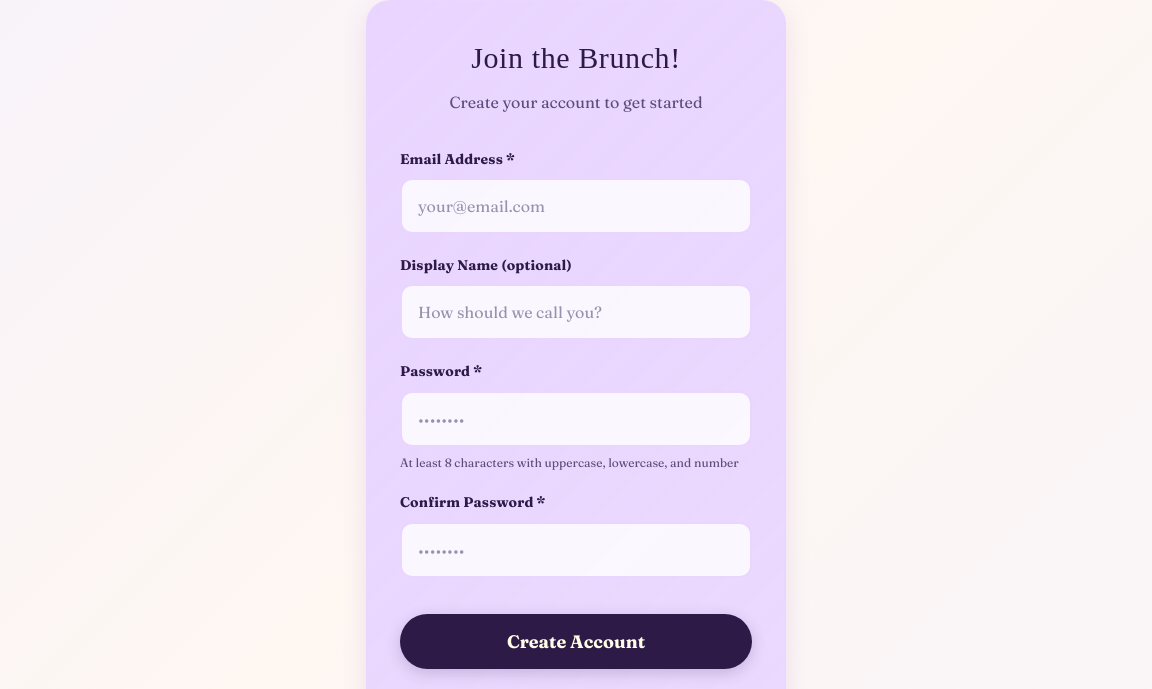
it: SignUpForm › Form Validation - Required Fields › should show error for invalid email format
In the field labelled "Email Address *": (576, 206) x1=400 y1=178 x2=752 y2=234, type "notanemail"
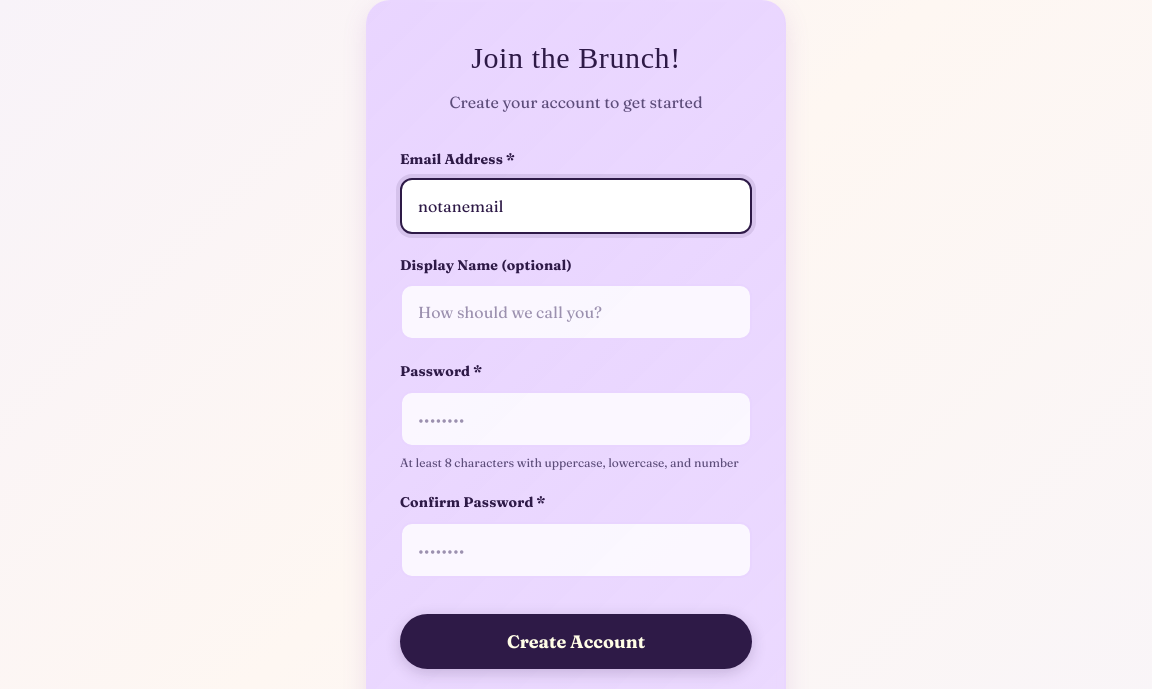
In the password field labelled "Password *": (576, 419) x1=400 y1=391 x2=752 y2=447, type "Password123"
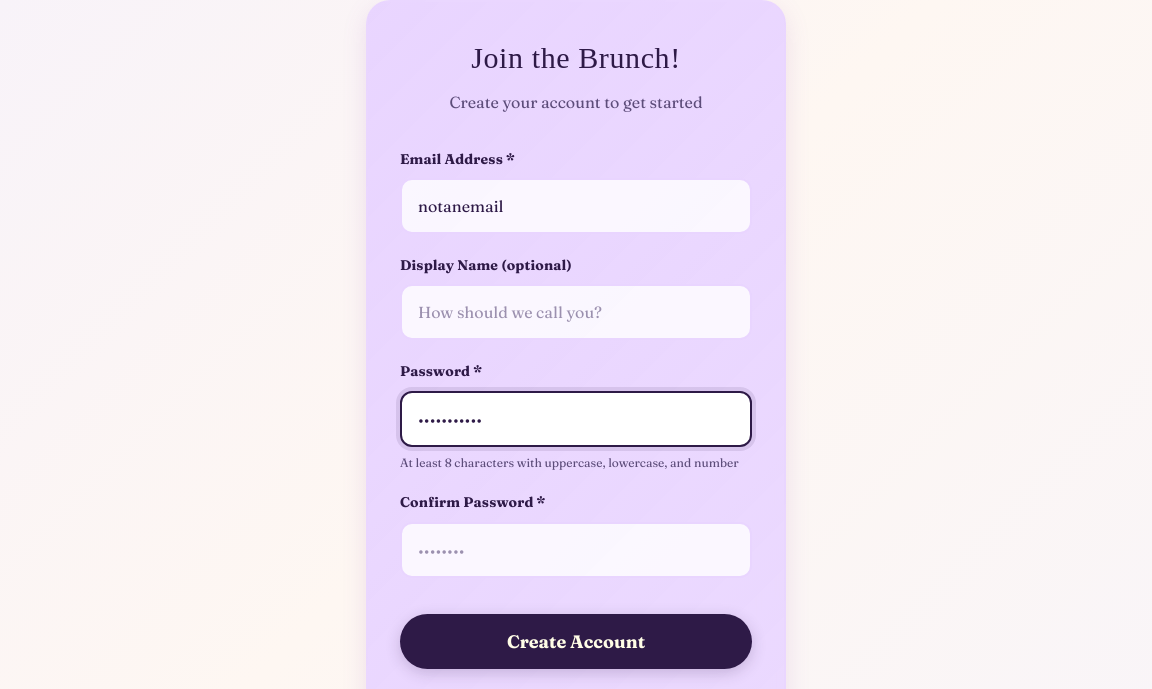
In the password field labelled "Confirm Password *": (576, 550) x1=400 y1=522 x2=752 y2=578, type "Password123"
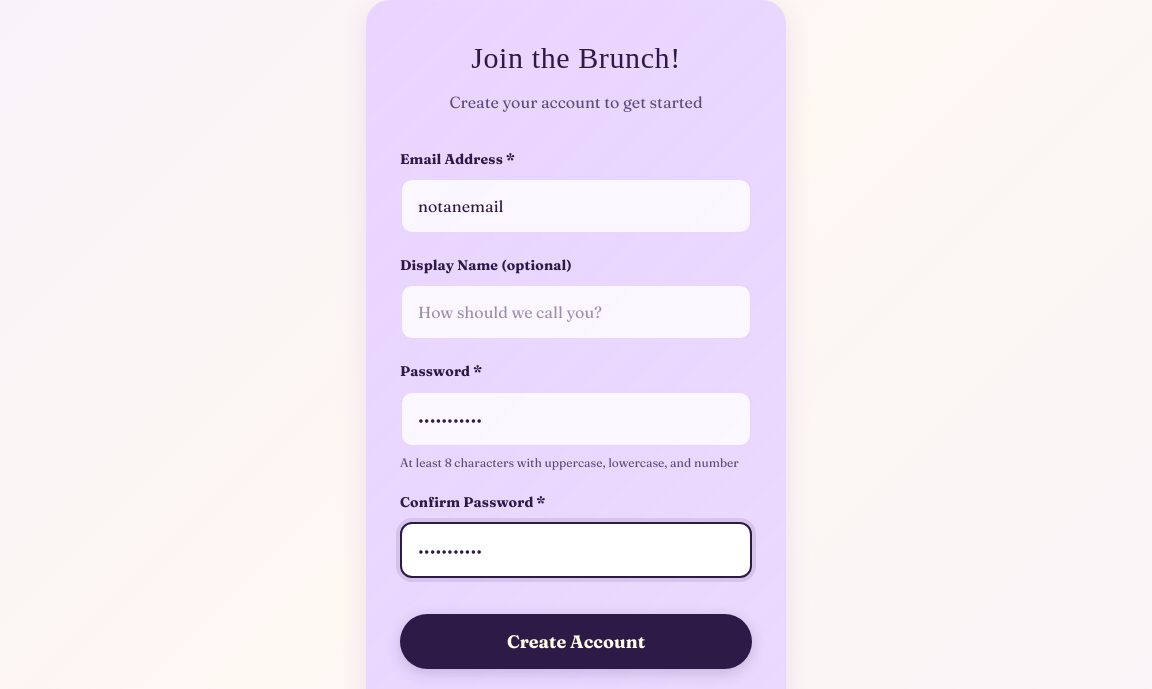
Click the button "Create Account": (576, 641) x1=400 y1=614 x2=752 y2=669
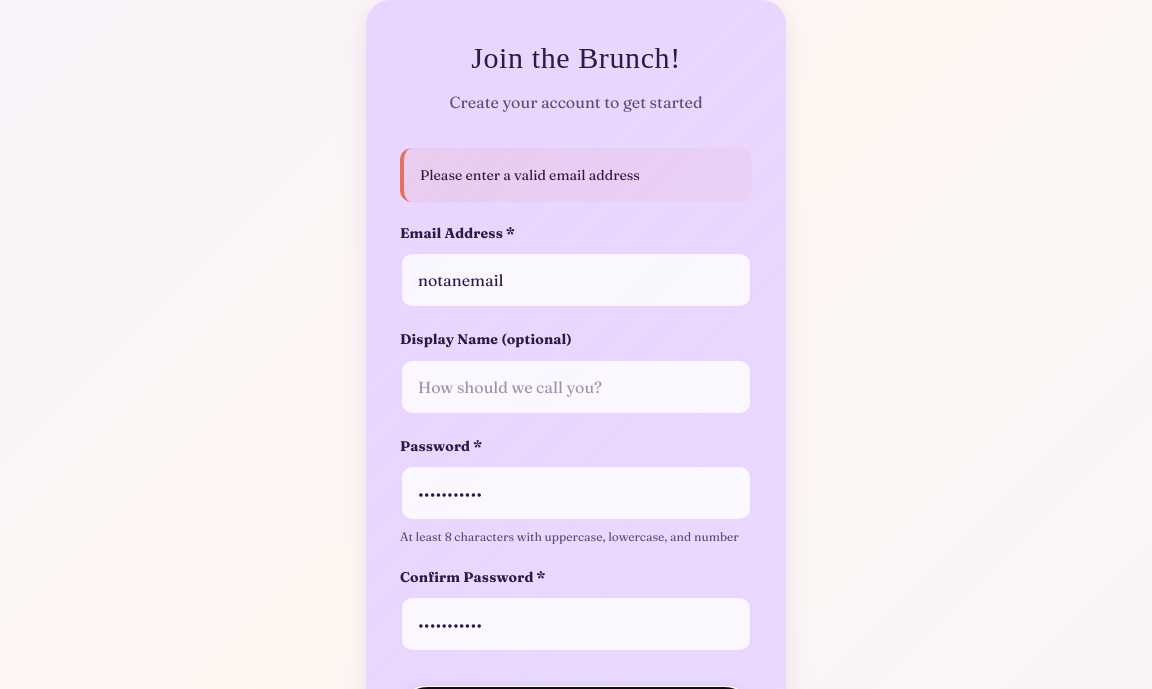
Expected: the text "Please enter a valid email address" is shown, x1=400 y1=148 x2=752 y2=202
